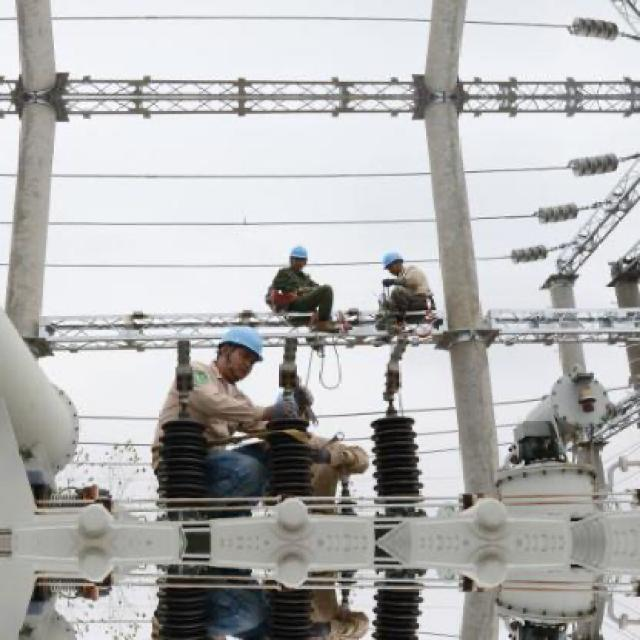con casco: (165, 303, 257, 422), (228, 232, 311, 313), (381, 238, 428, 289)
